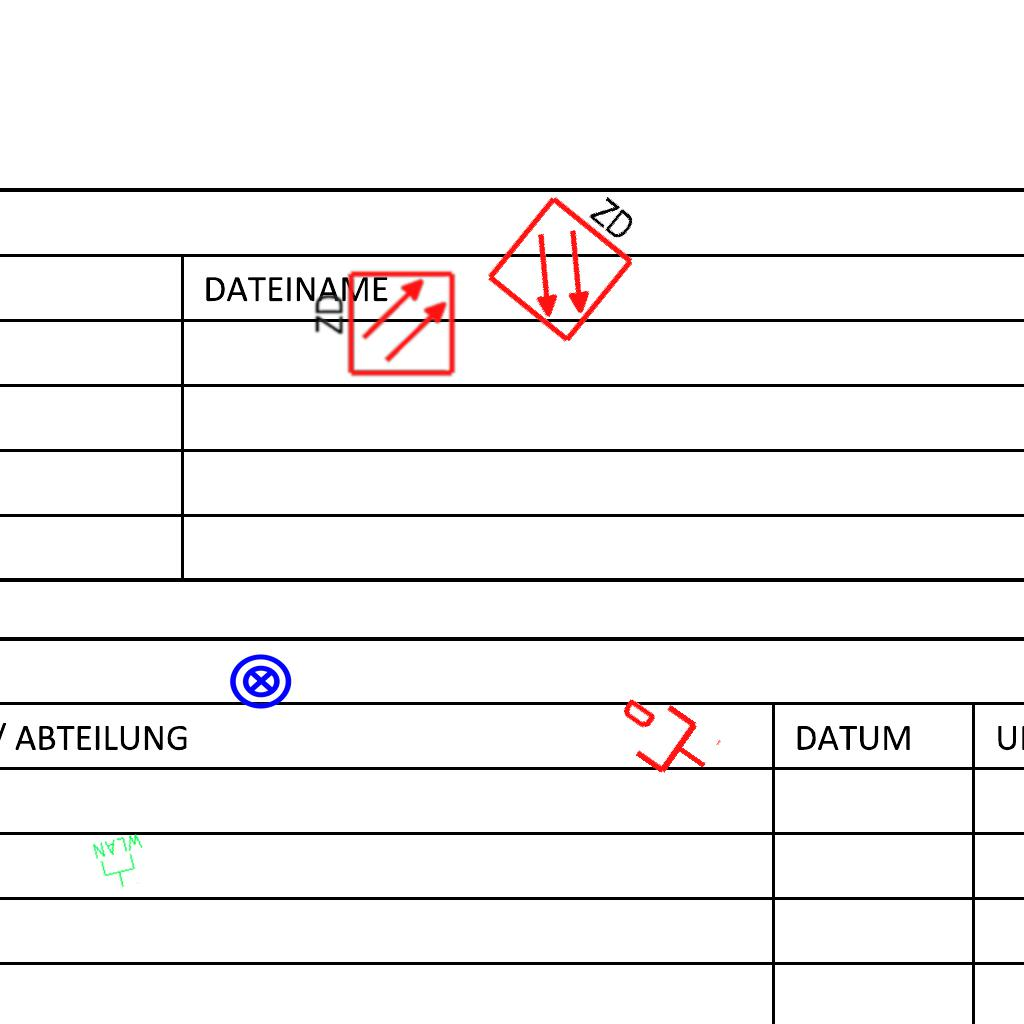Datenanschluss_einfach: (603, 681, 726, 795)
Taster_beleuchtet: (228, 648, 294, 714)
WLAN: (90, 830, 154, 894)
ZD_Melder_in_Zwischendecke_mit_Revisionsoeffnung_mind_40_x_40_cm: (479, 159, 663, 348), (308, 268, 457, 382)
